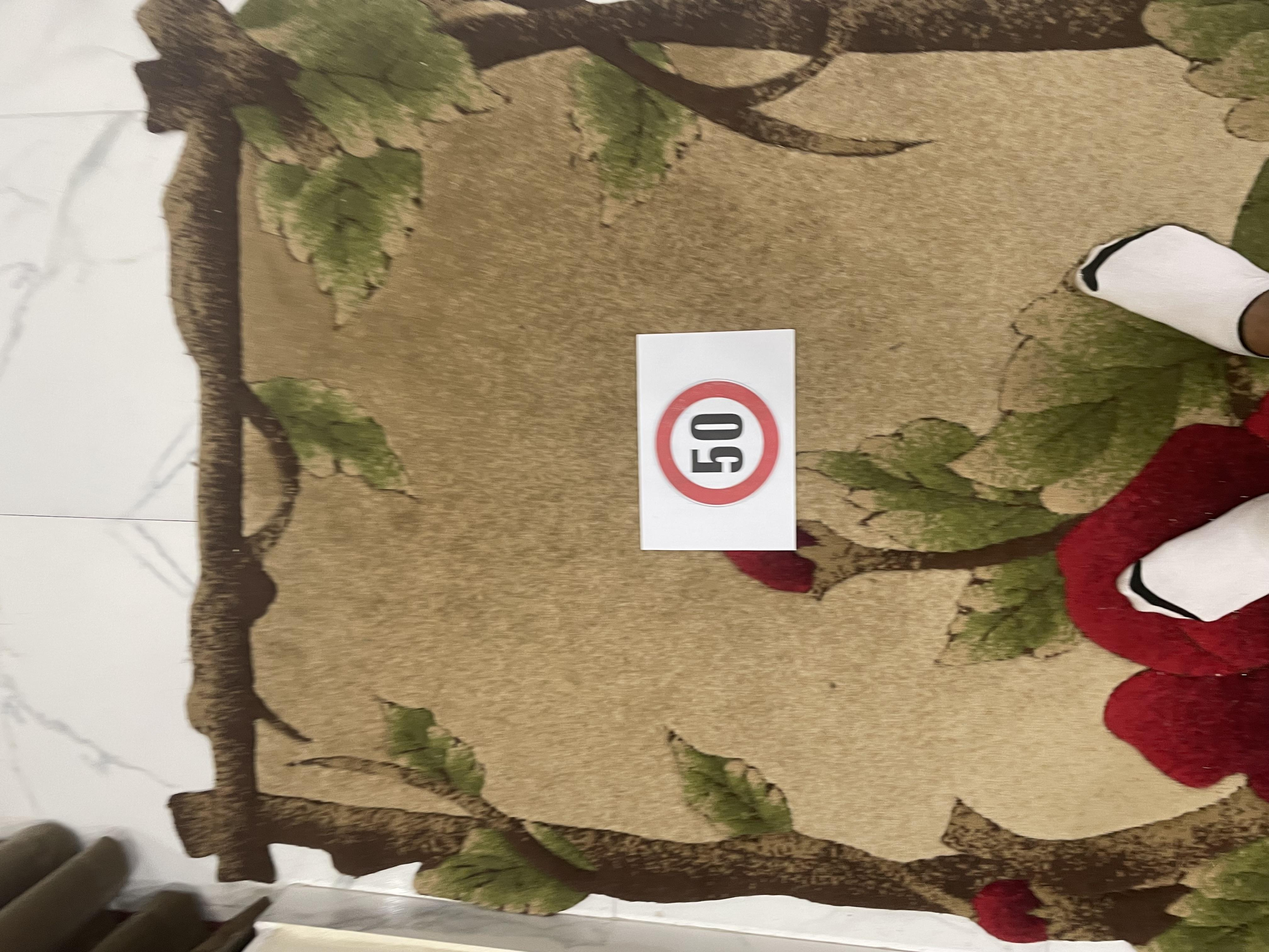50-Speed: (486, 442, 620, 576)
